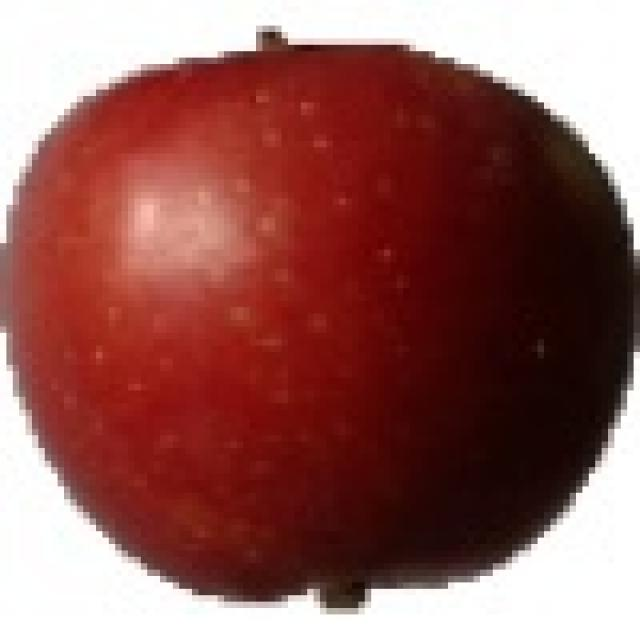apple: (8, 40, 633, 604)
